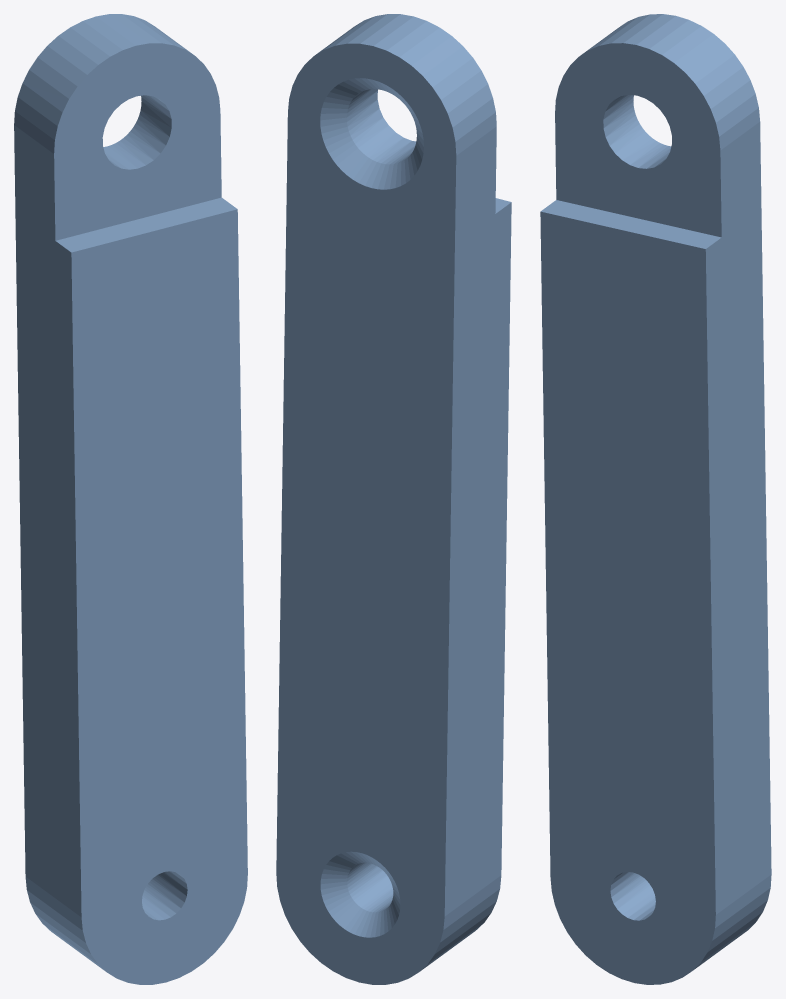
Rendered from feeder_rod.glb.
3 renders of one model, left to right at view 1: azimuth 30°, elevation 25°; view 2: azimuth 150°, elevation 25°; view 3: azimuth 330°, elevation 25°, orthographic.
Visible parts, largest first — view 1: pt_50#0; view 2: pt_50#0; view 3: pt_50#0.
Part boxes in pixels (box(x1,y1,x2,y2)): pt_50#0: box(14, 14, 247, 984); pt_50#0: box(276, 14, 511, 984); pt_50#0: box(540, 14, 771, 984).
Size of the model in its own units: 0.00641 by 0.032 by 0.0035.
